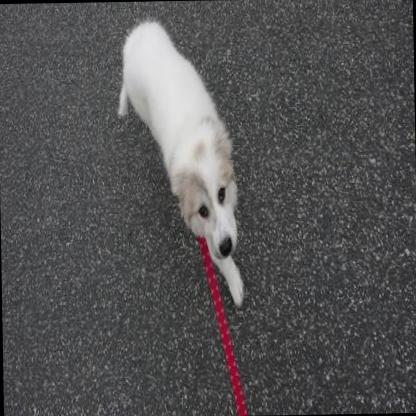Great_Pyrenees: (114, 16, 242, 308)
